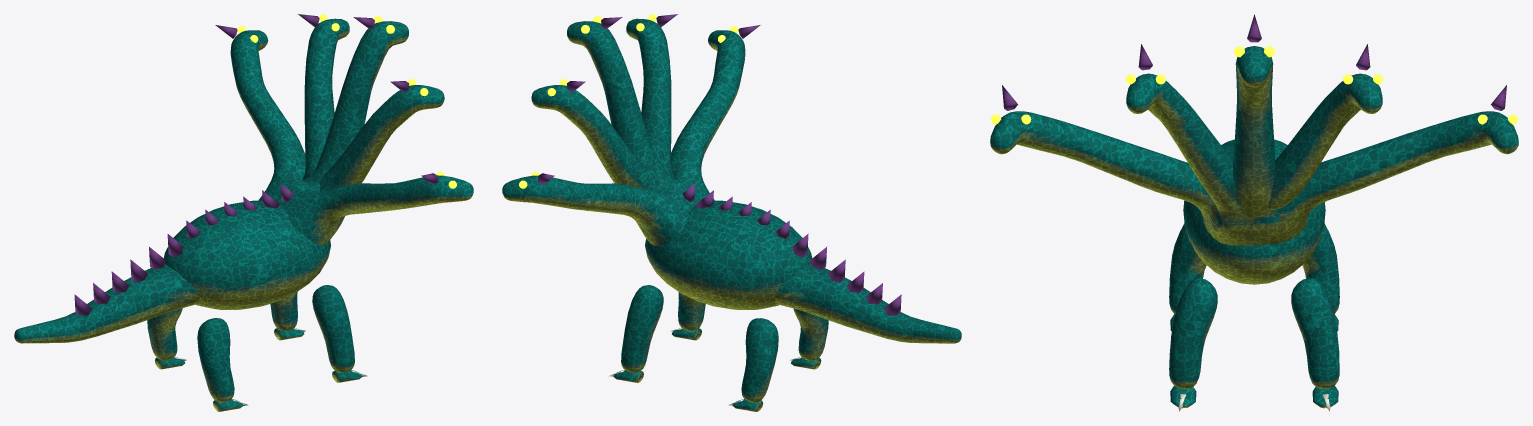
Rendered from hydra.glb.
3 renders of one model, left to right at view 1: azimuth 30°, elevation 25°; view 2: azimuth 150°, elevation 25°; view 3: azimuth 270°, elevation 25°, orthographic. The views are drawn at different scales.
Visible parts, largest first — view 1: hydra.001; view 2: hydra.001; view 3: hydra.001.
Boxes of the visible parts, left/top/right/bottom form: hydra.001: left=14, top=14, right=473, bottom=411; hydra.001: left=502, top=14, right=961, bottom=411; hydra.001: left=990, top=14, right=1518, bottom=411.
Size of the model in its own units: 2.96 by 2.4 by 2.82.
Materials: 4 (1 with a texture image).
